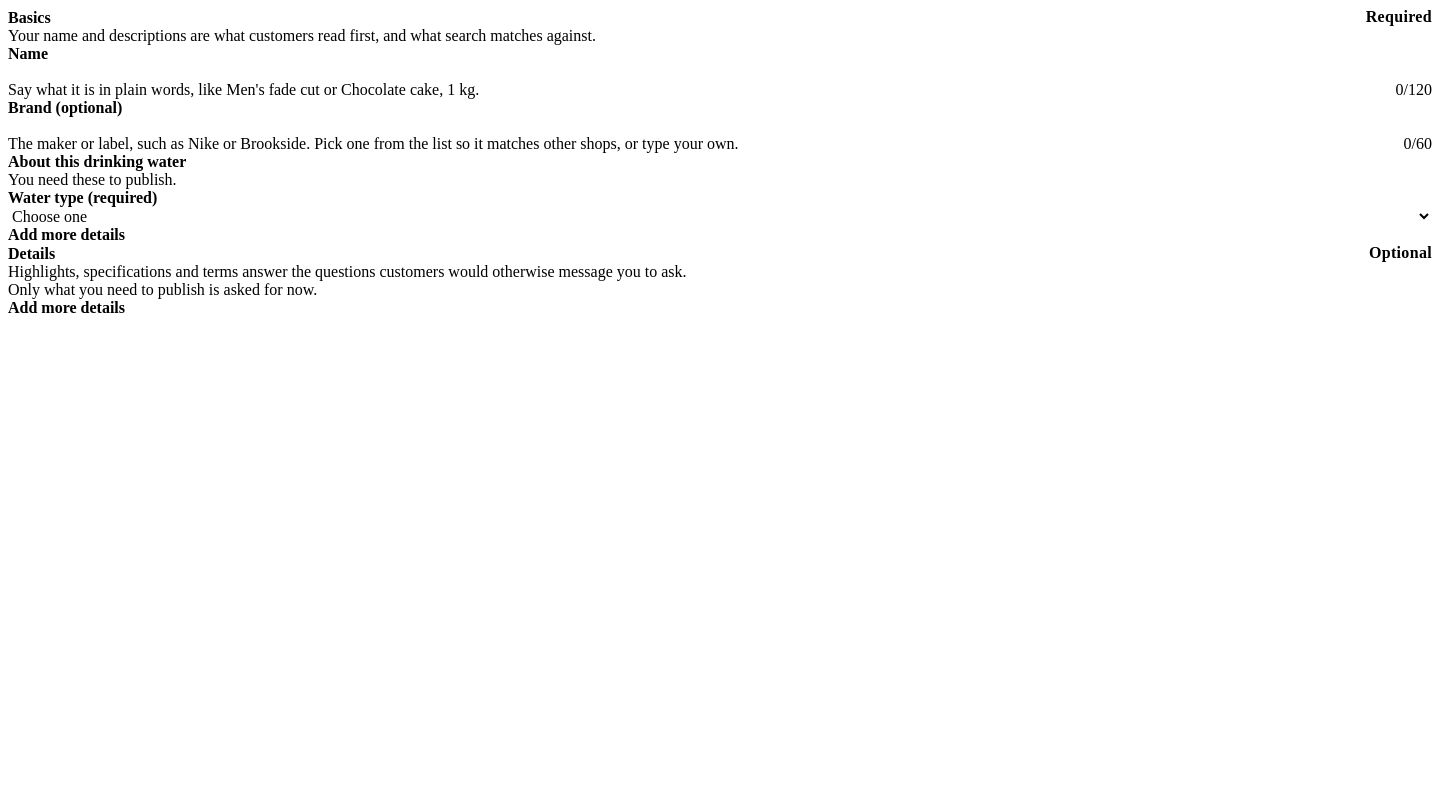
typed Basics: quick mode › Add more details reveals the descriptions and the section
Click the button "Add more details" below "Water type (required)" at coordinates (66, 235), box [8,226,125,244]
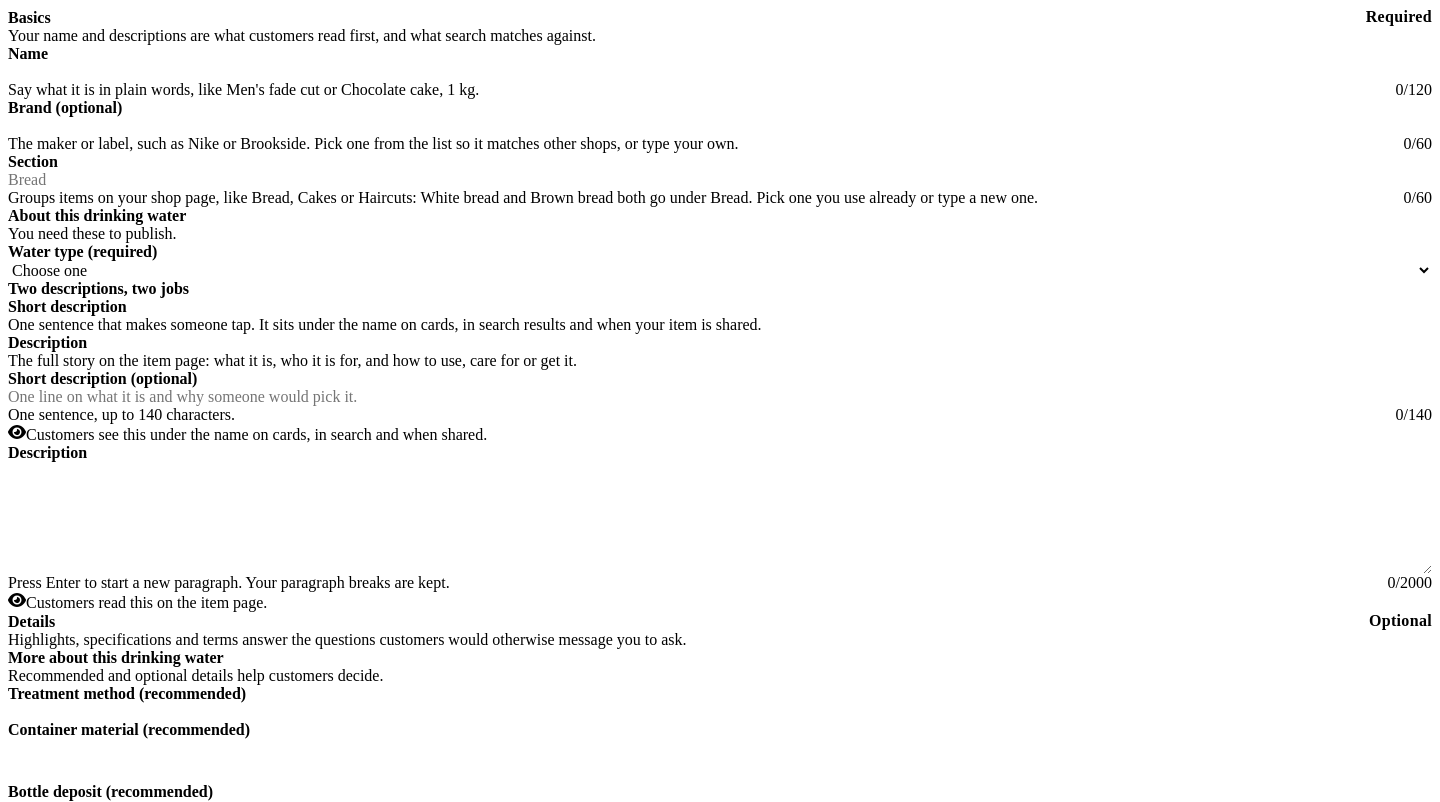
Expected: the text box labelled "Description" is shown, [8,462,1432,574]
Expected: the field labelled "Section" is shown, [8,171,1432,189]
Expected: the button "Add more details" is gone
